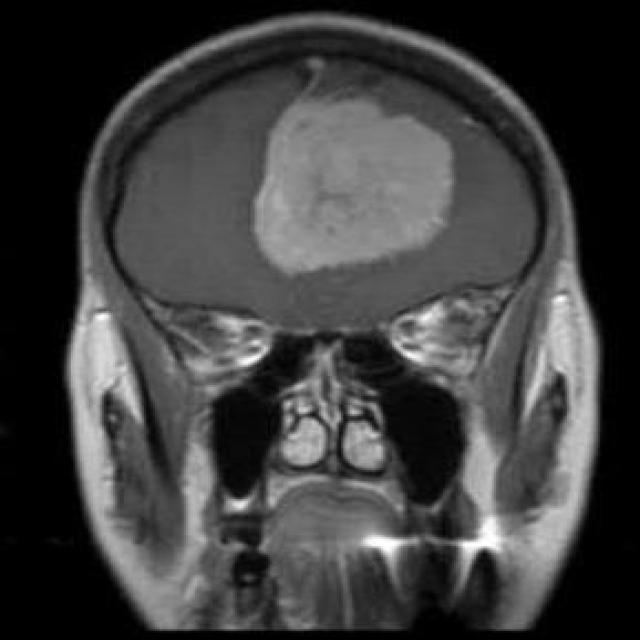Tumor: (250, 78, 468, 280)
